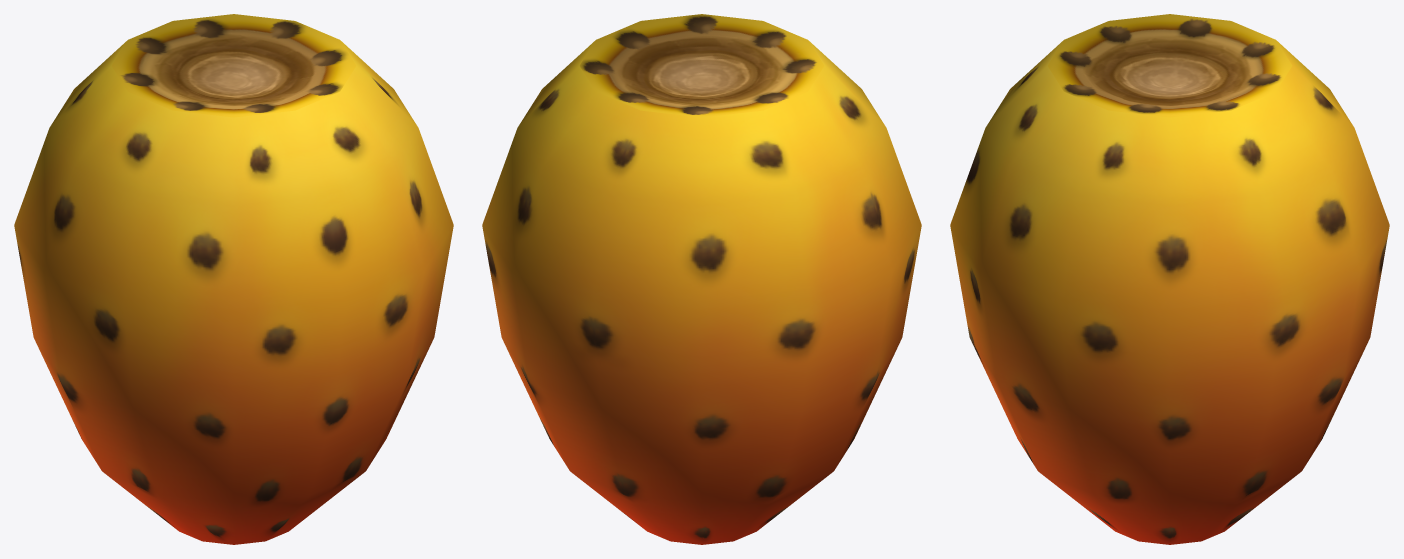
File: PricklyPear_Orange.fbx
The picture shows the model from 3 angles, left to right: view 1: azimuth 30°, elevation 25°; view 2: azimuth 150°, elevation 25°; view 3: azimuth 270°, elevation 25°; orthographic projection.
Parts seen in each view (by area): view 1: PricklyPear_Orange; view 2: PricklyPear_Orange; view 3: PricklyPear_Orange.
Boxes of the visible parts, x1=… form: PricklyPear_Orange: x1=14, y1=14, x2=453, y2=544; PricklyPear_Orange: x1=482, y1=14, x2=921, y2=544; PricklyPear_Orange: x1=950, y1=14, x2=1389, y2=544.
Size of the model in its own units: 26.57 by 31.42 by 26.57.
Materials: 1 (1 with a texture image).
